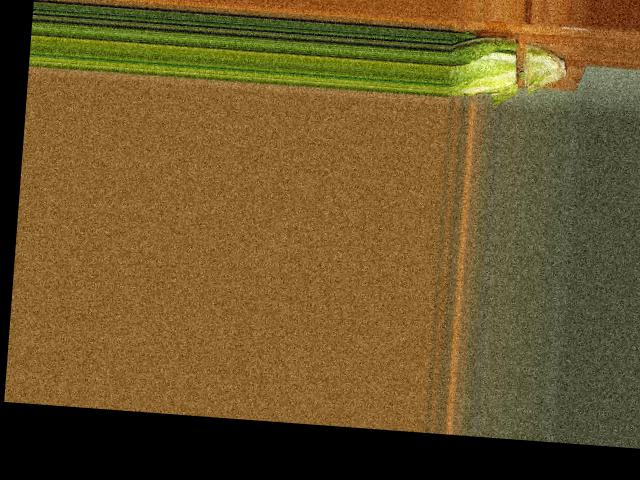lettuce: (449, 26, 567, 107)
